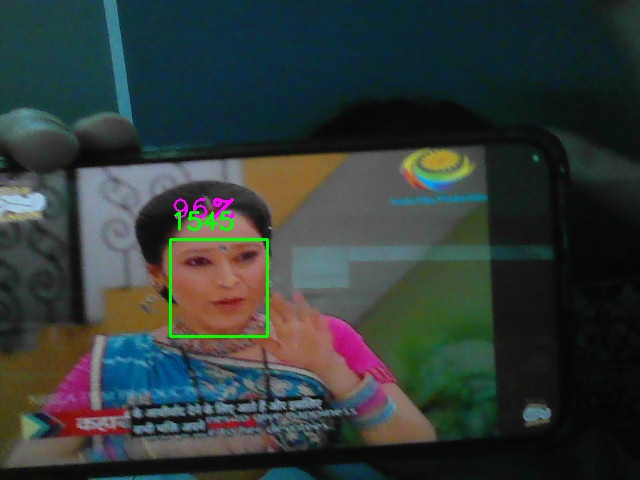fake: (170, 239, 268, 337)
